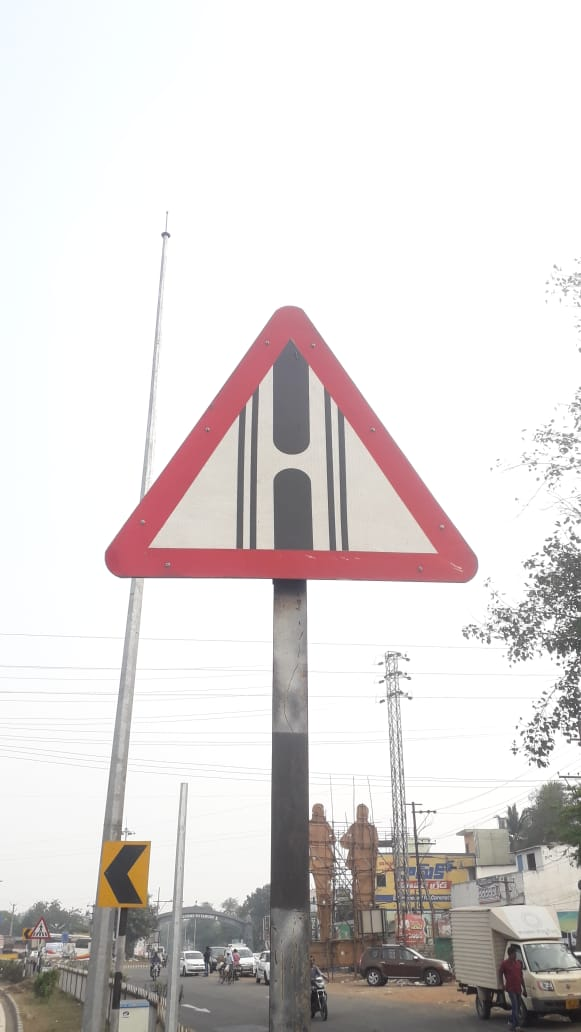highway go straight: (90, 290, 496, 619)
